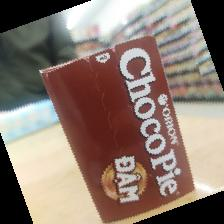Chocopie_cacao: (39, 34, 196, 224)
